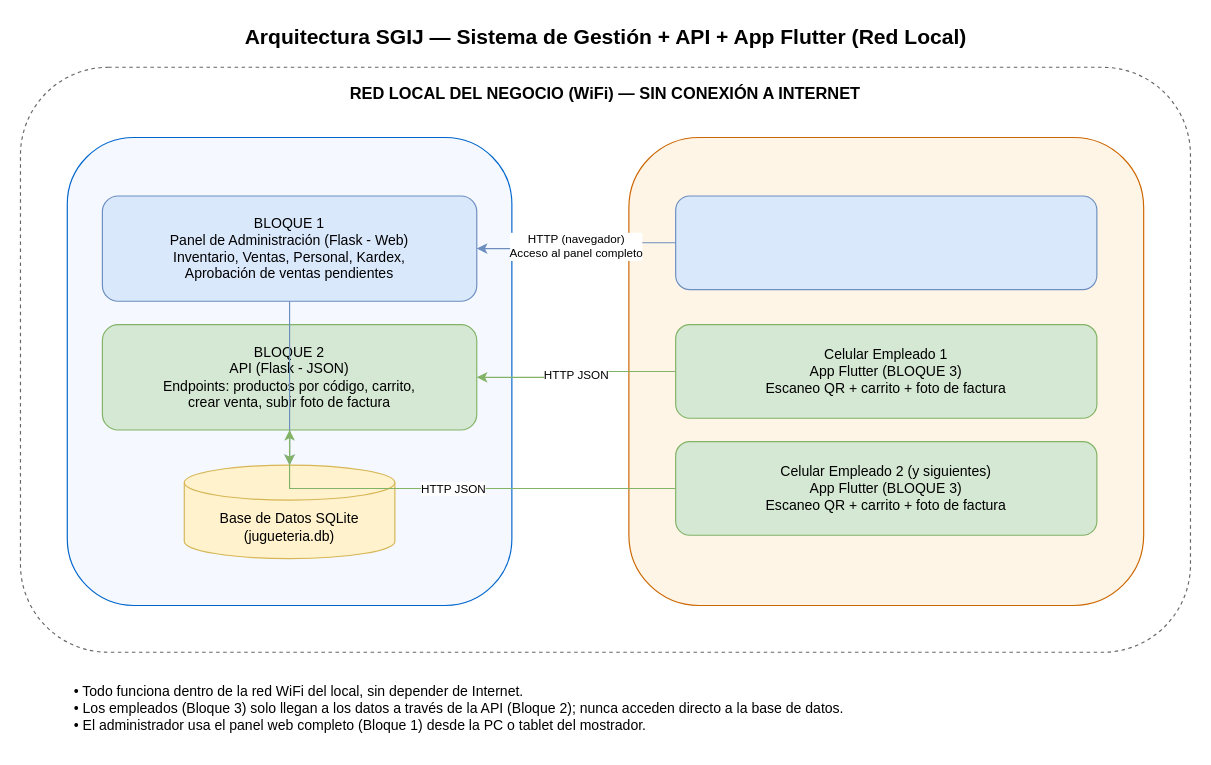
Some shapes in this 1211 by 765 pixel diagram are drawn without their labels. Here are the shapes that lost their labels. From the top down, the box of each, then its label:
(675, 195, 1097, 290): PC / Tablet del Mostrador (Navegador web) Usado por el Administrador
(66, 136, 512, 605): PC SERVIDOR IP local fija (ej. 192.168.1.50)
(628, 136, 1144, 605): DISPOSITIVOS EN LA TIENDA (mismo WiFi)
